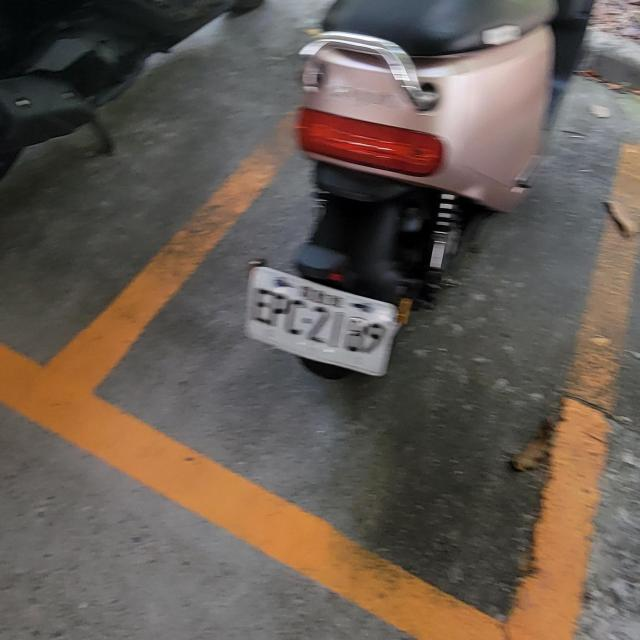W: (221, 256, 407, 386)
